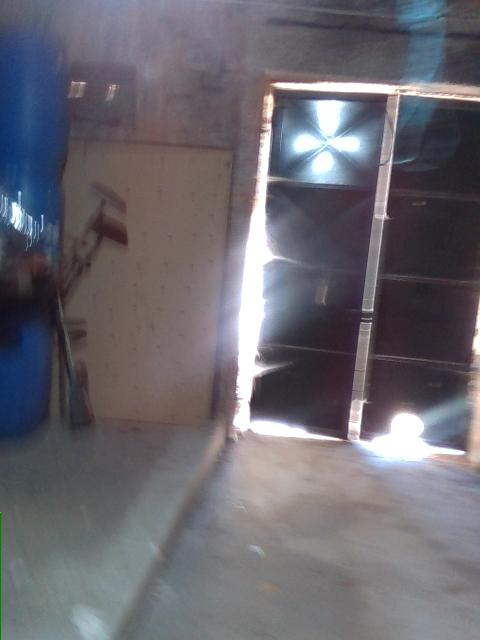door: (230, 73, 479, 464)
